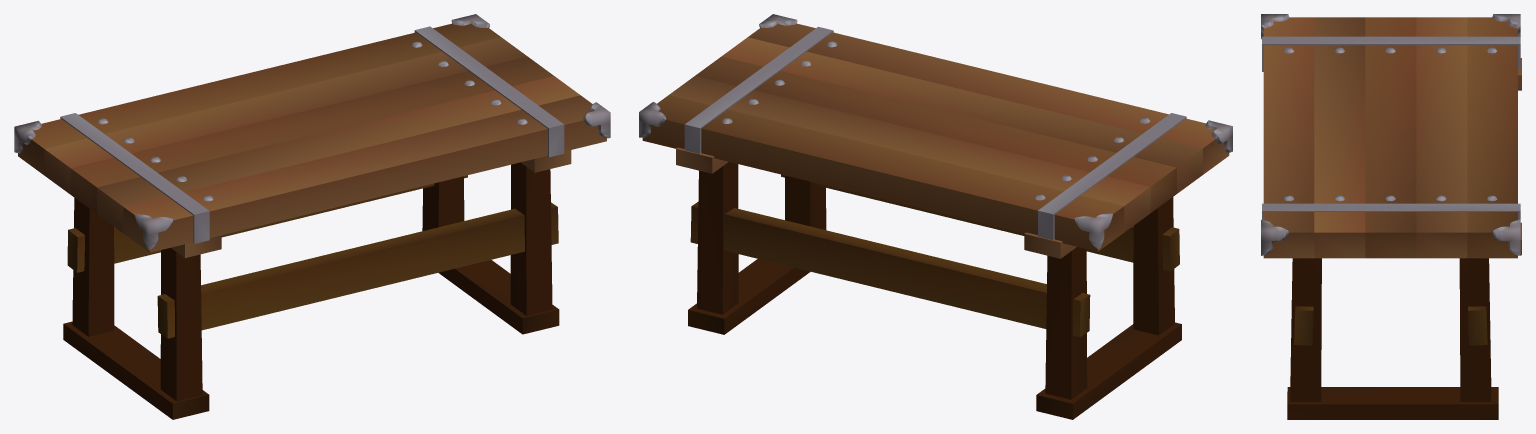
File: workbench.glb
3 views of the same model, side by side, from view 1: azimuth 30°, elevation 25°; view 2: azimuth 150°, elevation 25°; view 3: azimuth 270°, elevation 25° (orthographic). The views are drawn at different scales.
Visible parts, largest first — view 1: workbench; view 2: workbench; view 3: workbench.
Part boxes in pixels (<box>): workbench: <box>14,14,610,419</box>; workbench: <box>639,14,1232,419</box>; workbench: <box>1261,14,1521,419</box>.
Bounding box in the file's own units: 2.02 × 0.8946 × 1.02.
